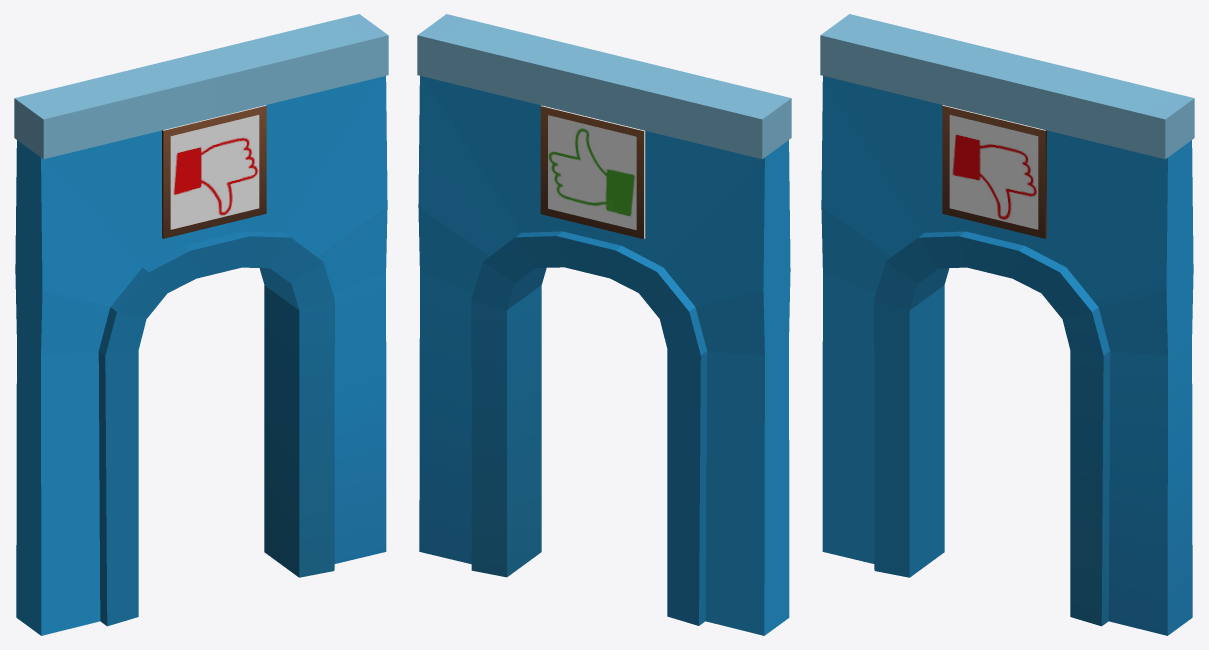
Rendered from Likedoor.fbx.
3 renders of one model, left to right at view 1: azimuth 30°, elevation 25°; view 2: azimuth 150°, elevation 25°; view 3: azimuth 330°, elevation 25°, orthographic.
Parts seen in each view (by area): view 1: Plane; view 2: Plane; view 3: Plane.
Part boxes in pixels (x1,y1,x2,y2): Plane: [14, 14, 388, 635]; Plane: [417, 14, 791, 635]; Plane: [820, 14, 1194, 635].
Size of the model in its own units: 372 by 534 by 71.87.
